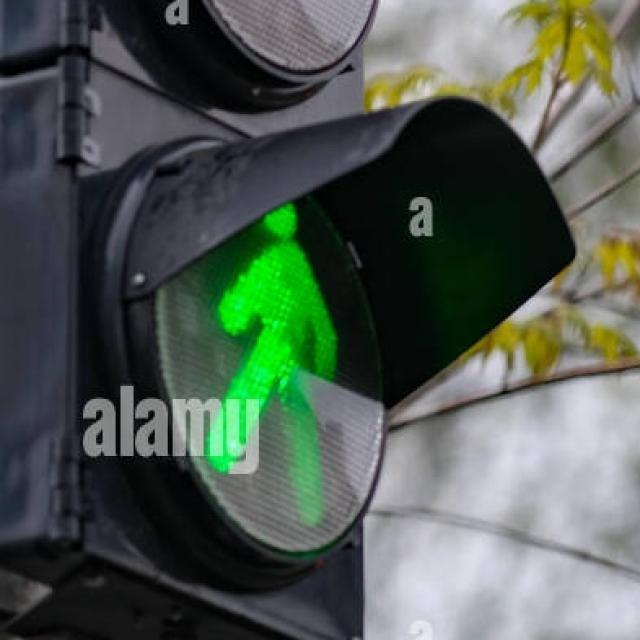geen-crossing: (218, 150, 356, 526)
